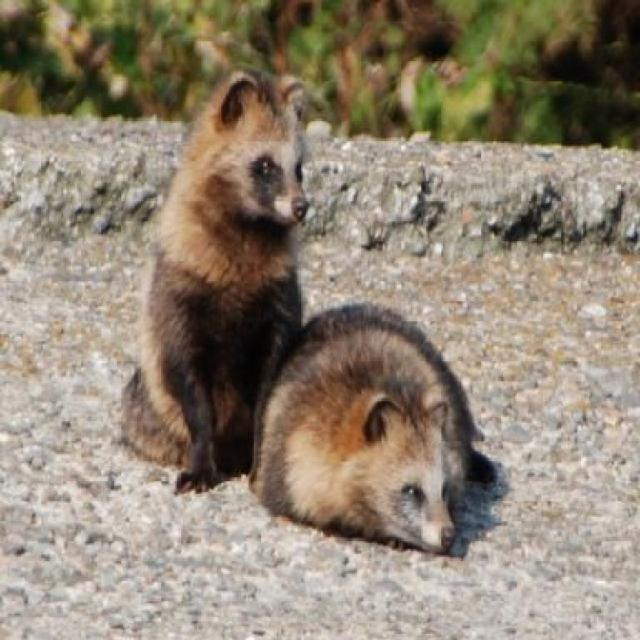raccon: (111, 69, 315, 498), (247, 301, 500, 558)
